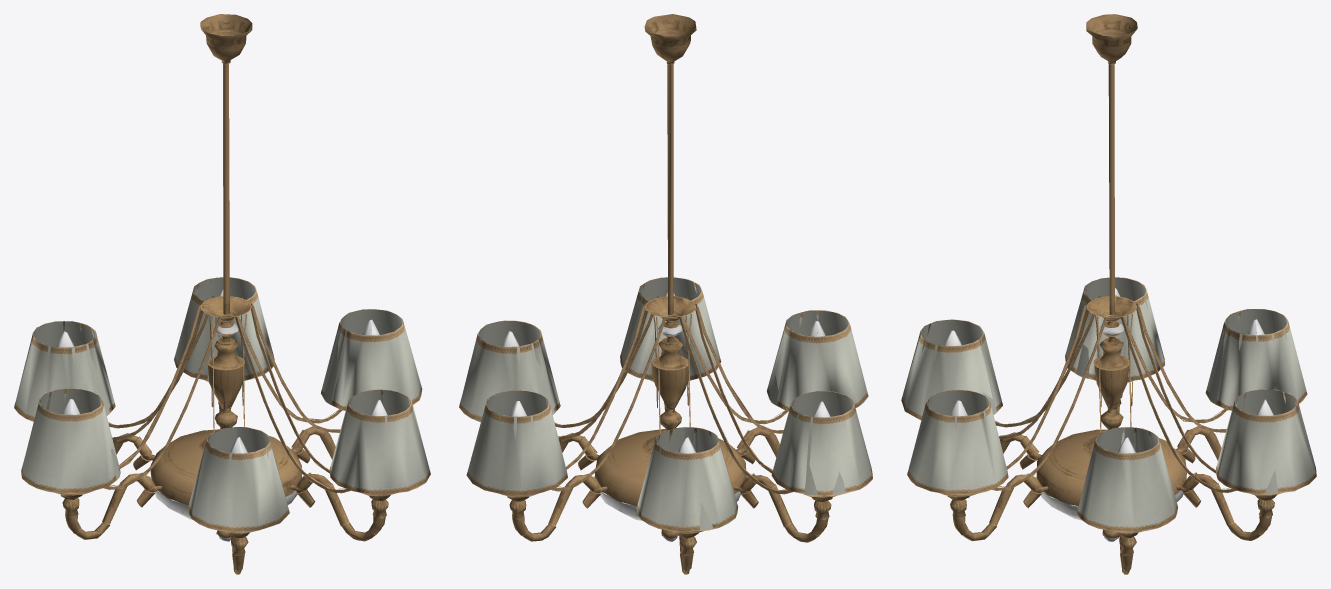
Rendered from ph_Chandelier_02.glb.
The picture shows the model from 3 angles, left to right: view 1: azimuth 30°, elevation 25°; view 2: azimuth 150°, elevation 25°; view 3: azimuth 270°, elevation 25°; orthographic projection.
Visible parts, largest first — view 1: Chandelier_02; view 2: Chandelier_02; view 3: Chandelier_02.
Boxes of the visible parts, bbox=[...] form: Chandelier_02: bbox=[14, 14, 430, 574]; Chandelier_02: bbox=[459, 14, 872, 574]; Chandelier_02: bbox=[901, 14, 1316, 574].
Bounding box in the file's own units: 0.6779 × 0.848 × 0.6189.
Materials: 2 (1 with a texture image).
